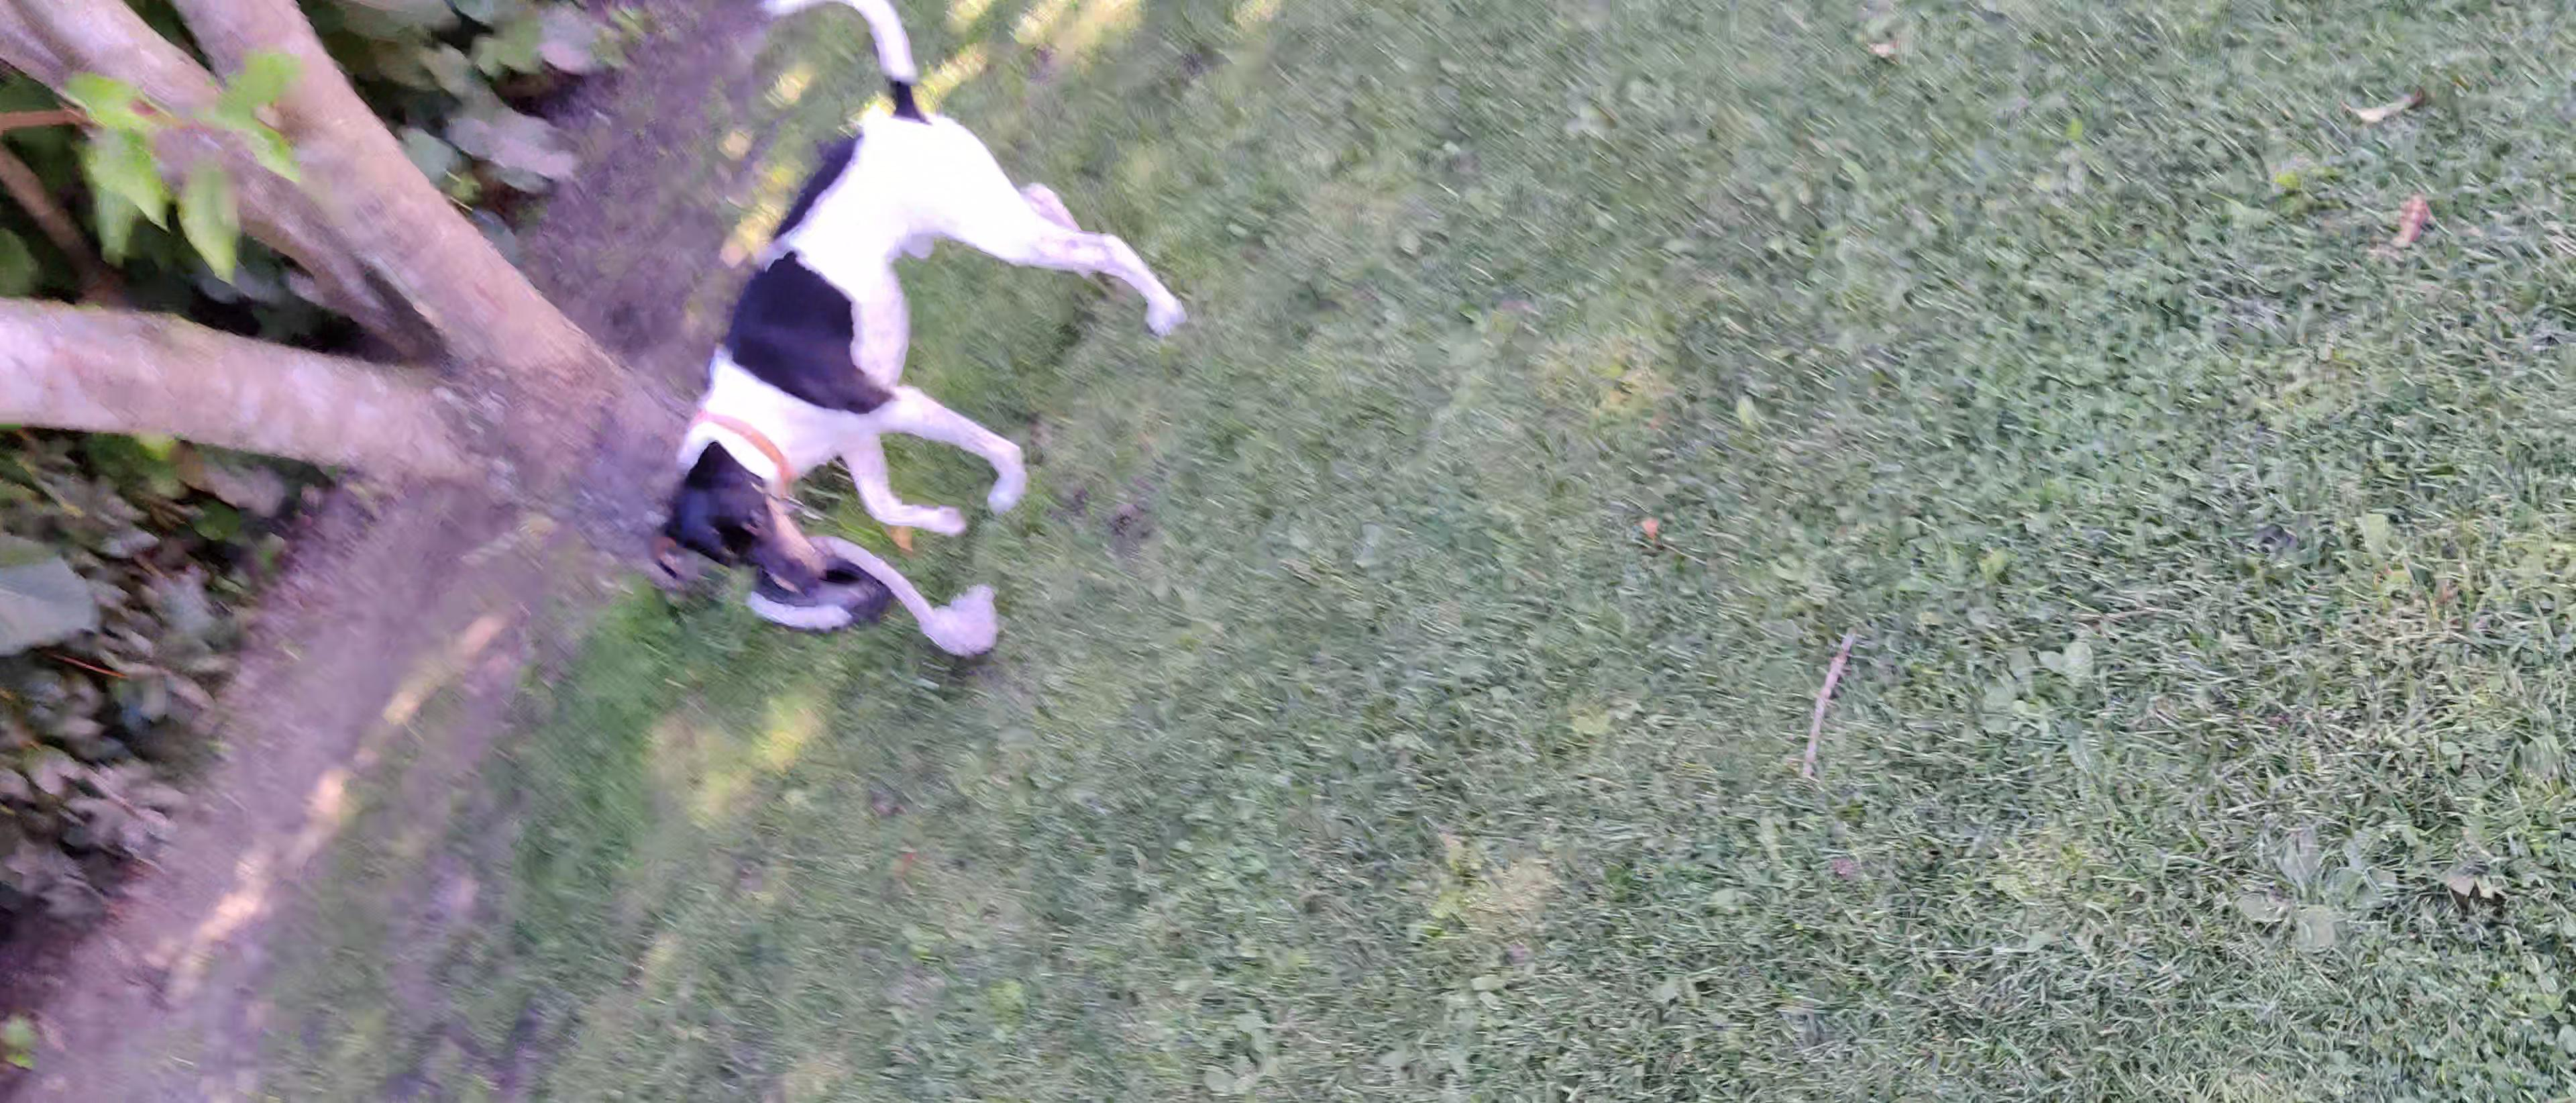Dog: (642, 0, 1188, 592)
